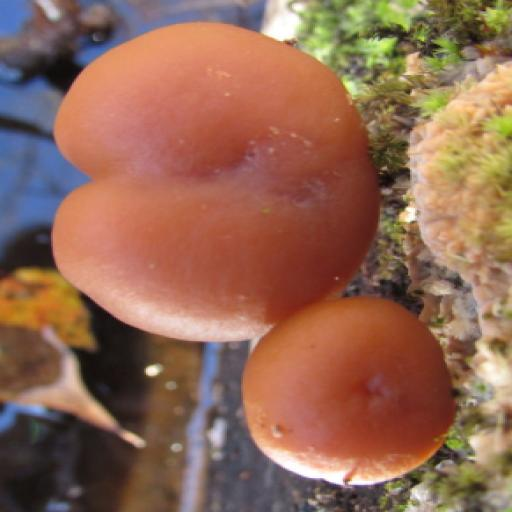mushroom: (37, 18, 465, 489)
